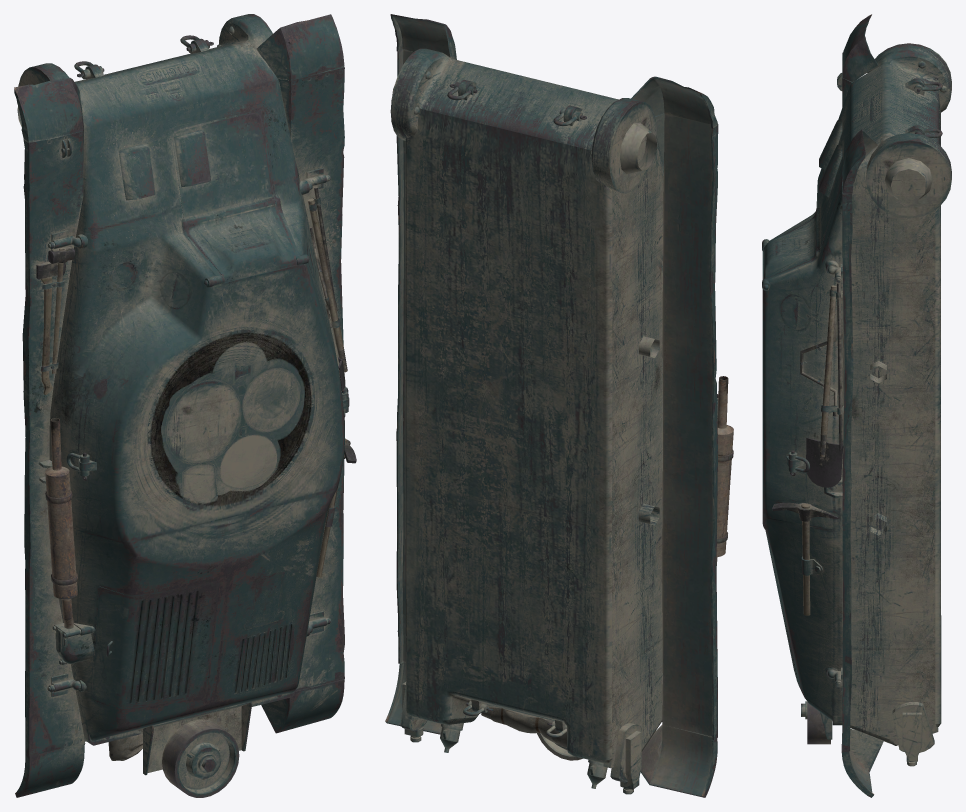
File: Hull.glb
3 views of the same model, side by side, from view 1: azimuth 30°, elevation 25°; view 2: azimuth 150°, elevation 25°; view 3: azimuth 270°, elevation 25° (orthographic). The views are drawn at different scales.
Parts seen in each view (by area): view 1: set_0_group_0; view 2: set_0_group_0; view 3: set_0_group_0.
Part boxes in pixels (bbox=[...]): set_0_group_0: bbox=[14, 14, 356, 797]; set_0_group_0: bbox=[385, 14, 733, 797]; set_0_group_0: bbox=[762, 14, 951, 797].
Bounding box in the file's own units: 1.97 × 4.27 × 1.12.
1 material, 1 textured.
